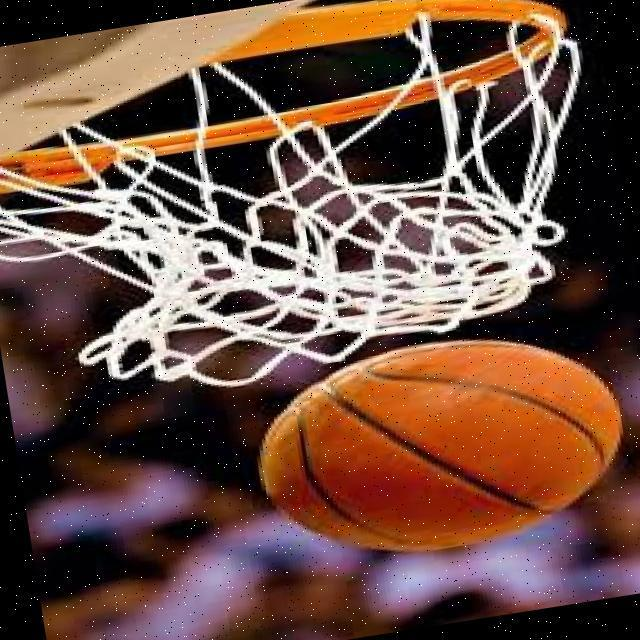ball: (247, 316, 638, 576)
hoop: (18, 0, 580, 182)
